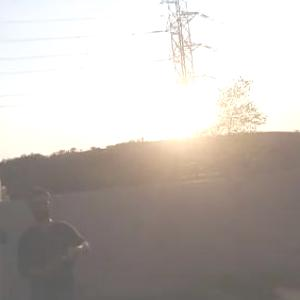follow: (13, 178, 97, 299)
